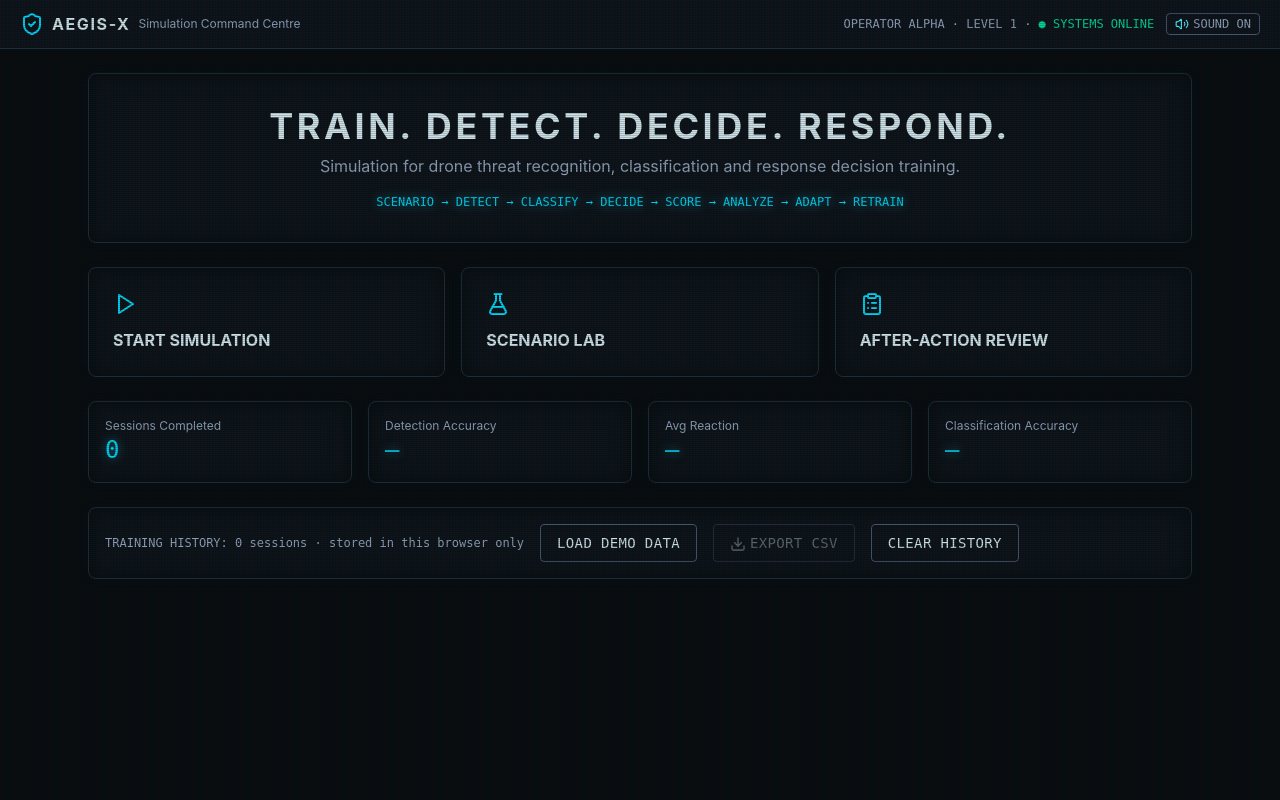
Scenario: navigation edge cases › aborting mid-run then letting timers elapse never teleports to the AAR or logs a session
Click the button "START SIMULATION".
click(192, 340)  # box [88,267,445,377]
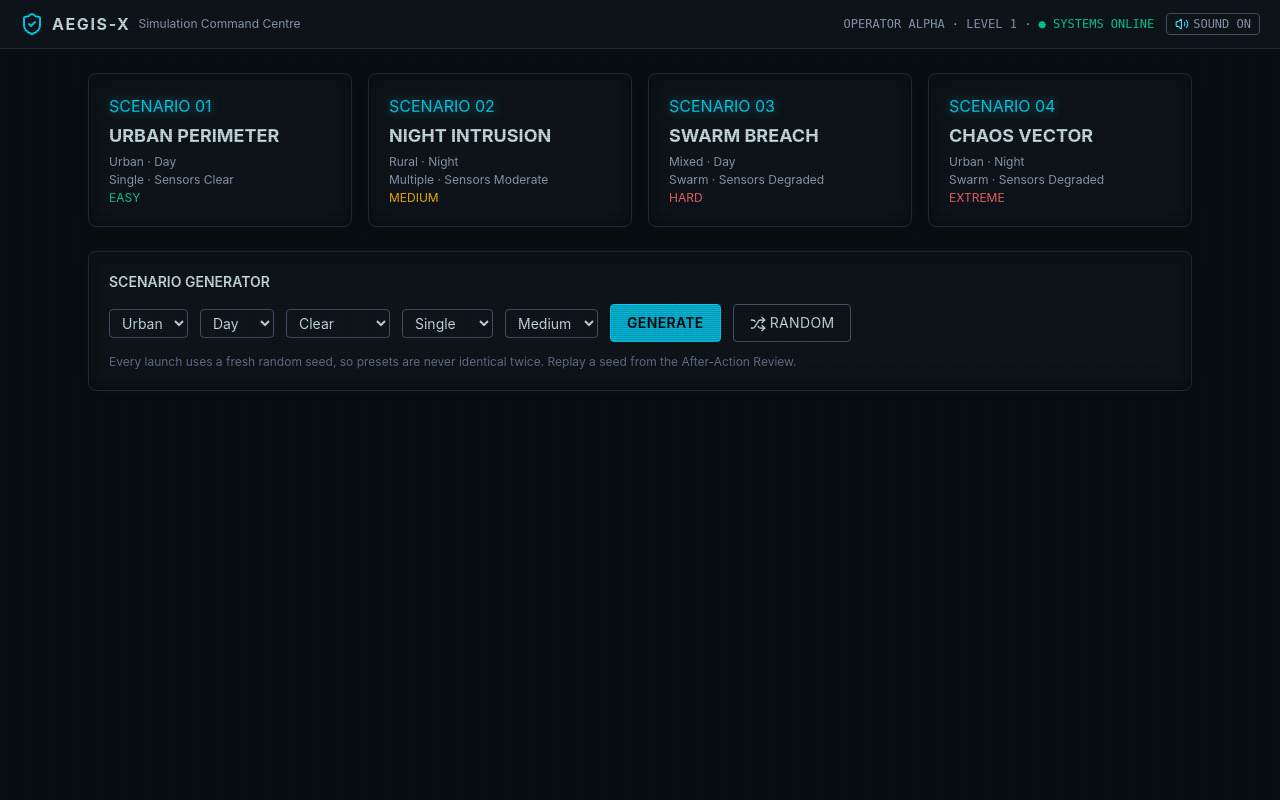
Click the 3rd button.
click(157, 106)  # box [88,73,352,227]
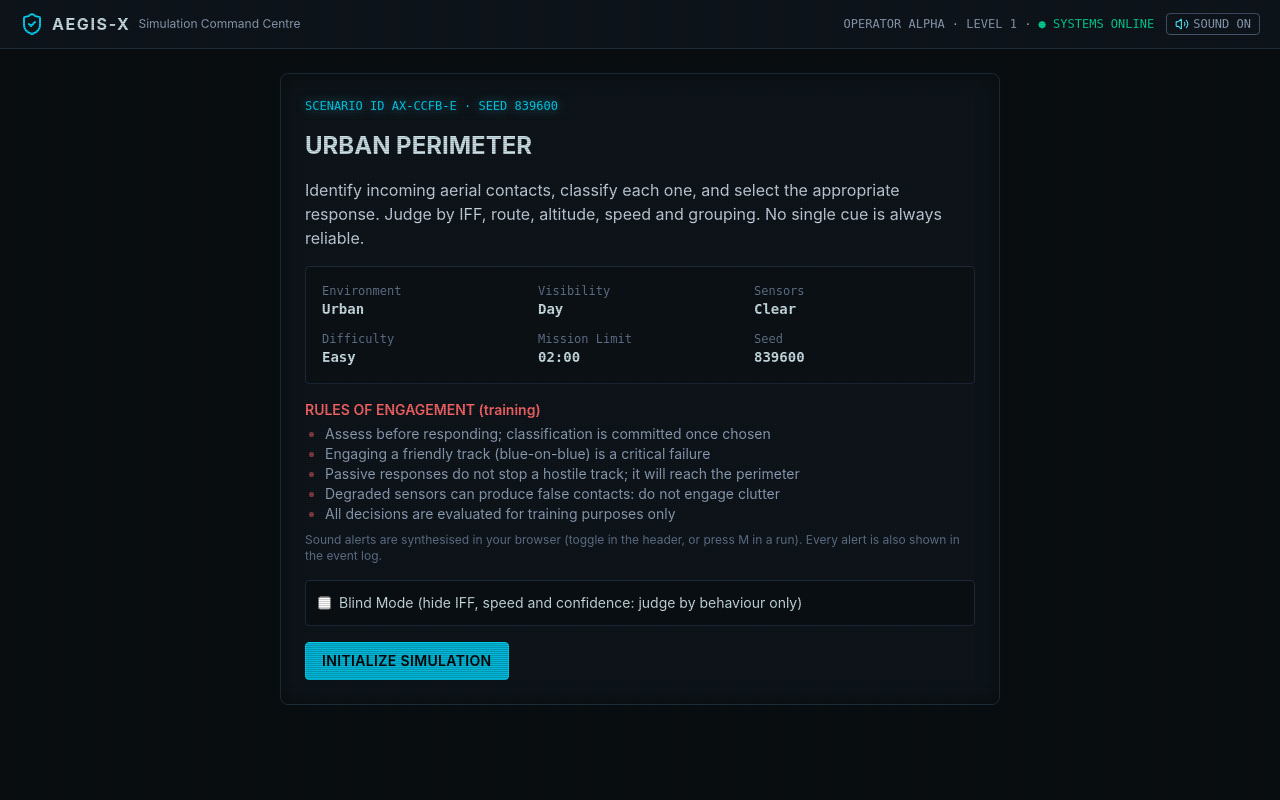
Click the button "INITIALIZE SIMULATION".
click(407, 661)  # box [305,642,508,680]
Wait 2000 ms
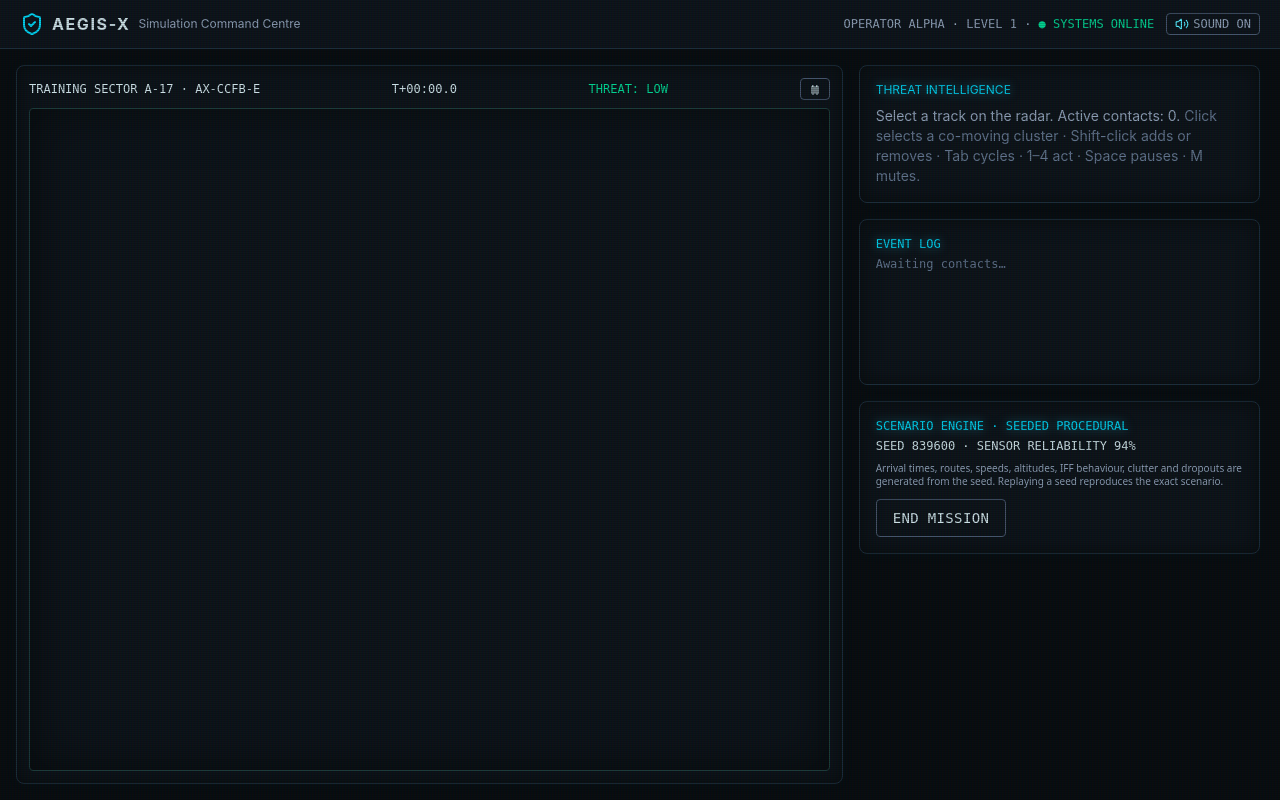
Click the button "END MISSION".
click(941, 518)  # box [876,499,1006,537]
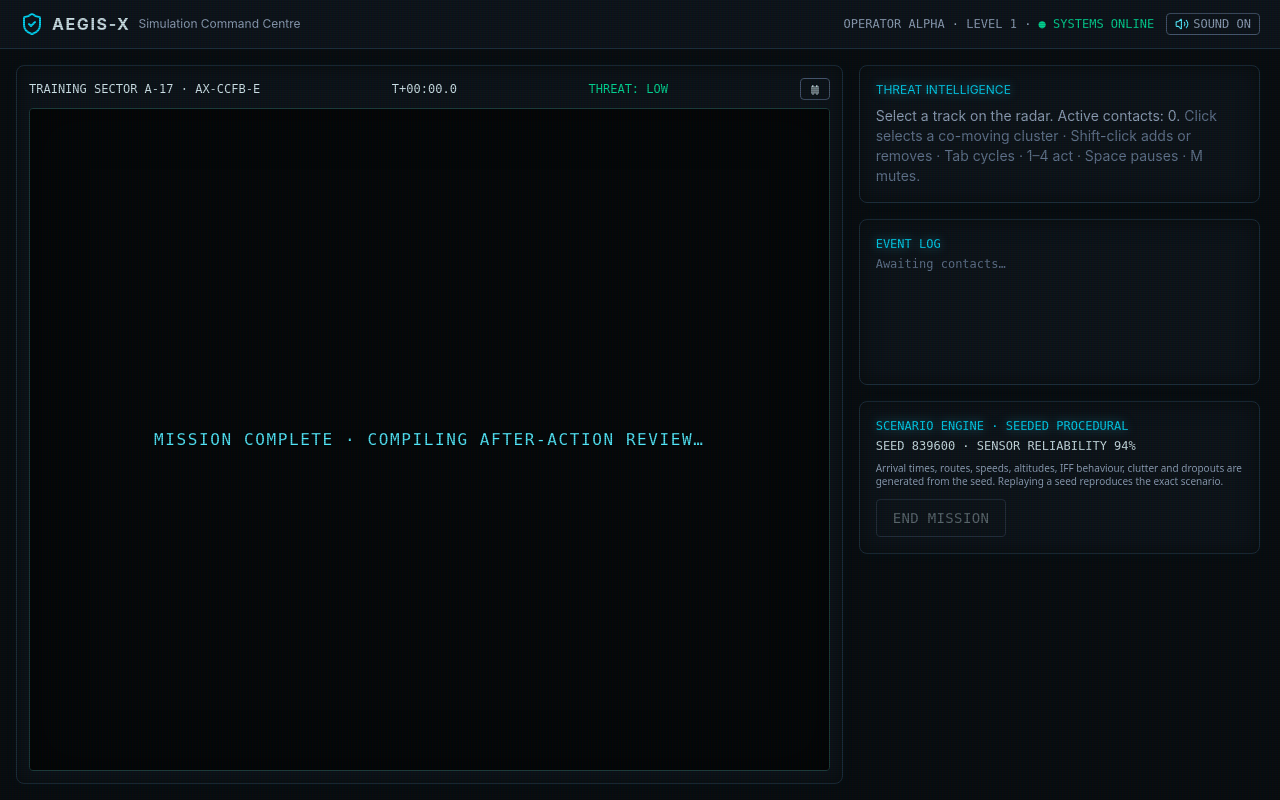
Click the button "AEGIS-X Simulation Command Centre".
click(160, 24)  # box [20,12,300,36]
Wait 8008 ms
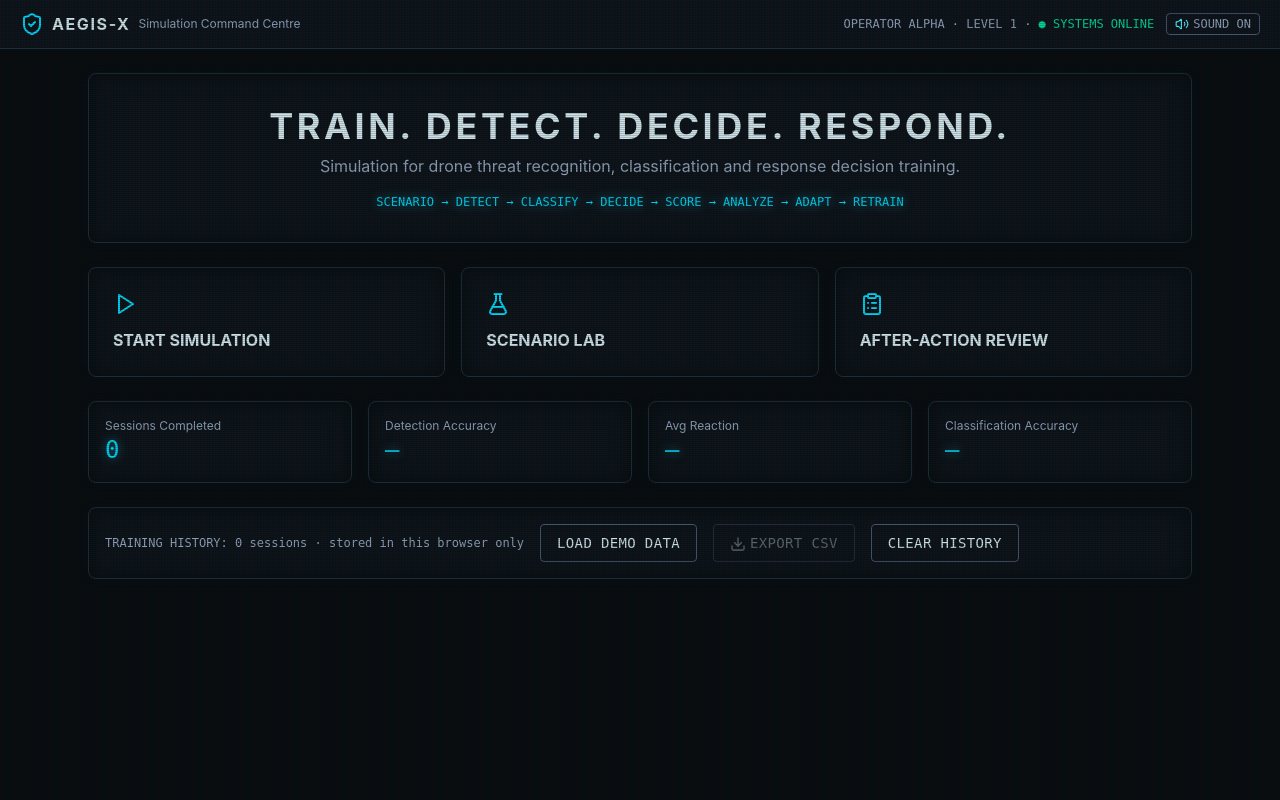
expect the text "TRAIN. DETECT. DECIDE. RESPOND." is shown: met, box [269,104,1011,148]
expect the text "TRAINING HISTORY: 0 sessions" is shown: met, box [105,535,524,551]
